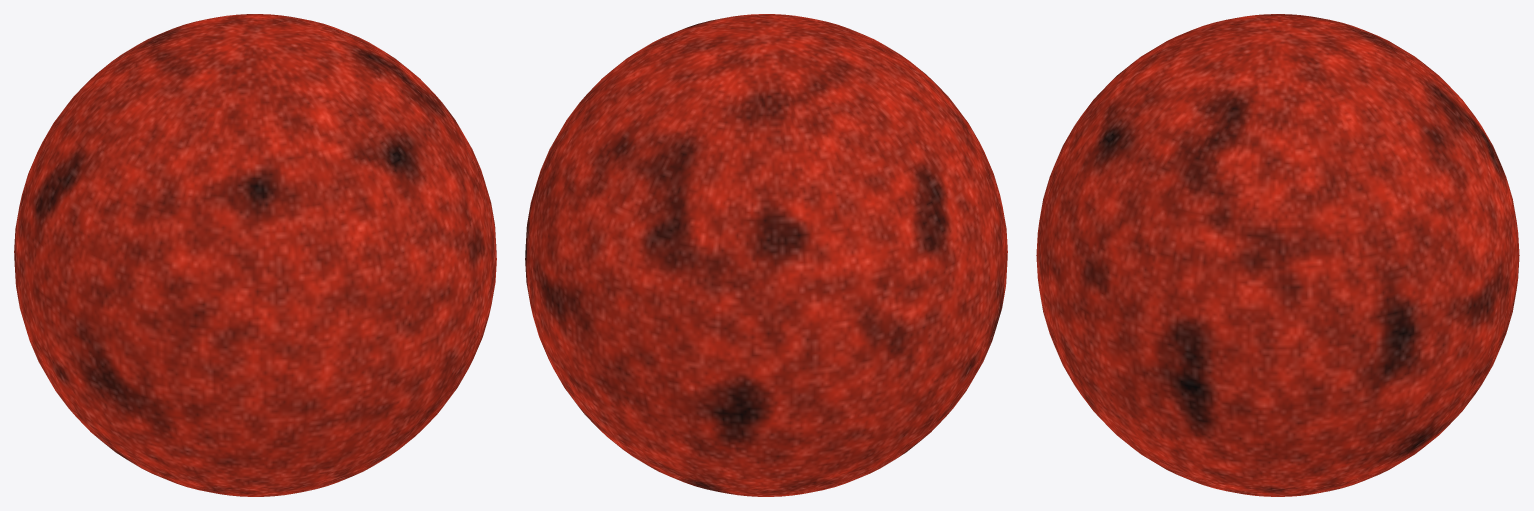
File: estrela-red.glb
The picture shows the model from 3 angles, left to right: view 1: azimuth 30°, elevation 25°; view 2: azimuth 150°, elevation 25°; view 3: azimuth 270°, elevation 25°; orthographic projection.
Visible parts, largest first — view 1: Fotosfera · red; view 2: Fotosfera · red; view 3: Fotosfera · red.
Boxes of the visible parts, box(x1,y1,x2,y2) form: Fotosfera · red: box(14, 14, 496, 496); Fotosfera · red: box(525, 14, 1007, 496); Fotosfera · red: box(1036, 14, 1519, 496).
Size of the model in its own units: 2 by 2 by 2.
1 material, 1 textured.
